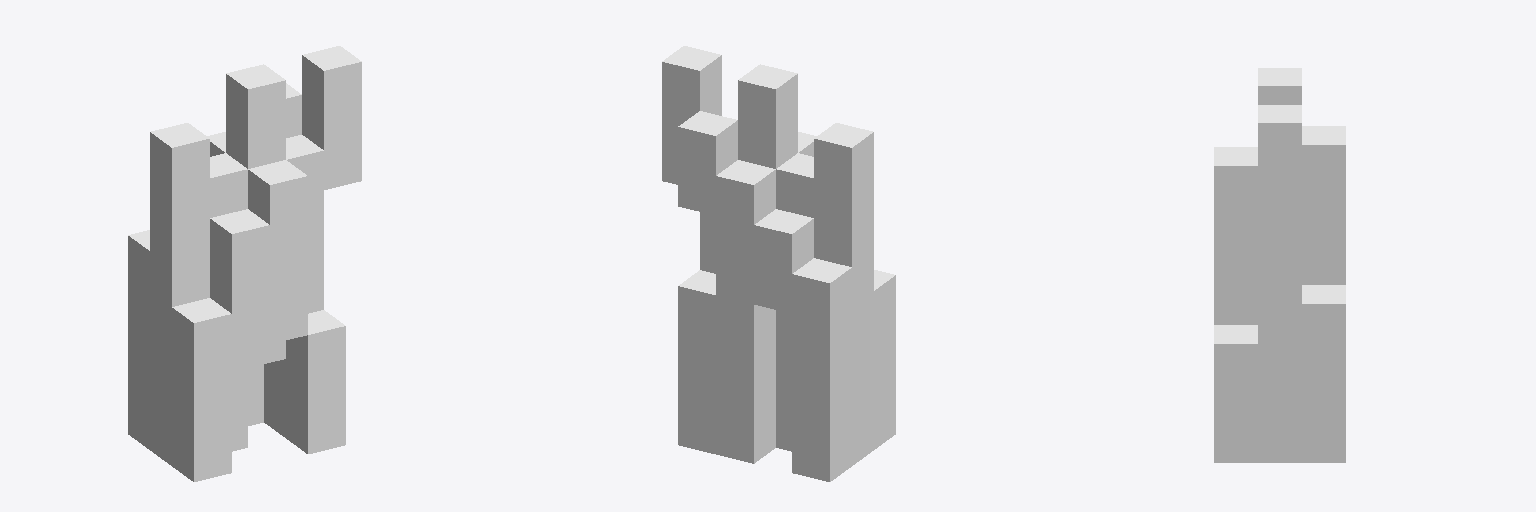
Rendered from grass_dense.obj.
3 renders of one model, left to right at view 1: azimuth 30°, elevation 25°; view 2: azimuth 150°, elevation 25°; view 3: azimuth 270°, elevation 25°, orthographic.
Parts seen in each view (by area): view 1: object 1; view 2: object 1; view 3: object 1.
Boxes of the visible parts, x1,y1,x2,y2 form: object 1: [128, 46, 361, 481]; object 1: [662, 46, 895, 481]; object 1: [1214, 68, 1345, 462].
Bounding box in the file's own units: 0.5 × 0.9 × 0.3.